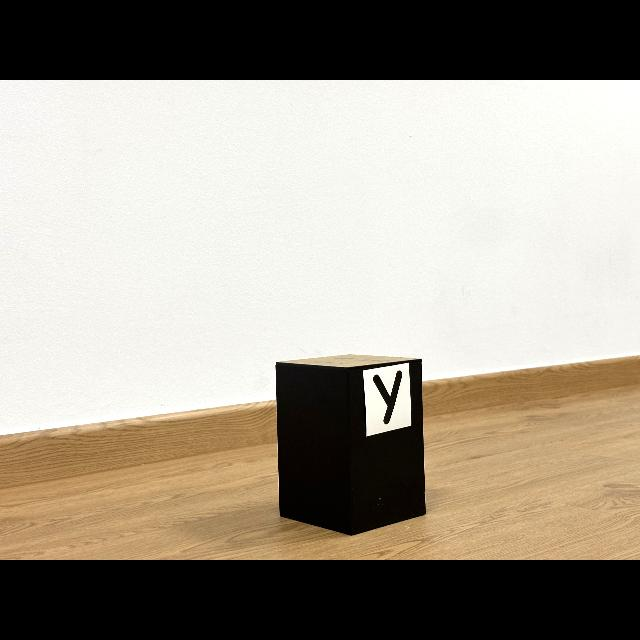Y: (372, 370, 402, 424)
